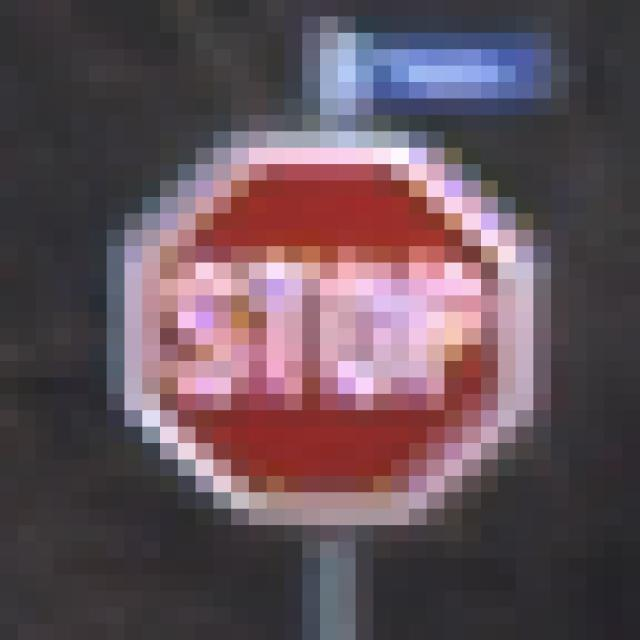STOP: (90, 83, 552, 559)
